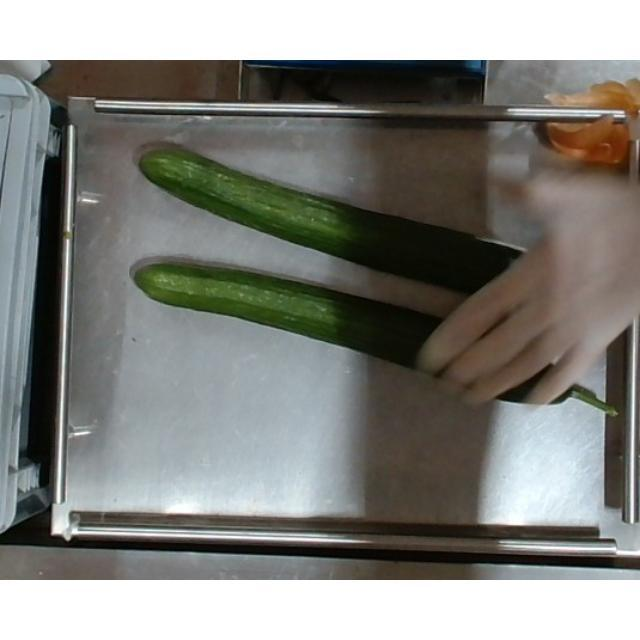cucumber: (138, 143, 610, 310), (134, 261, 622, 419)
